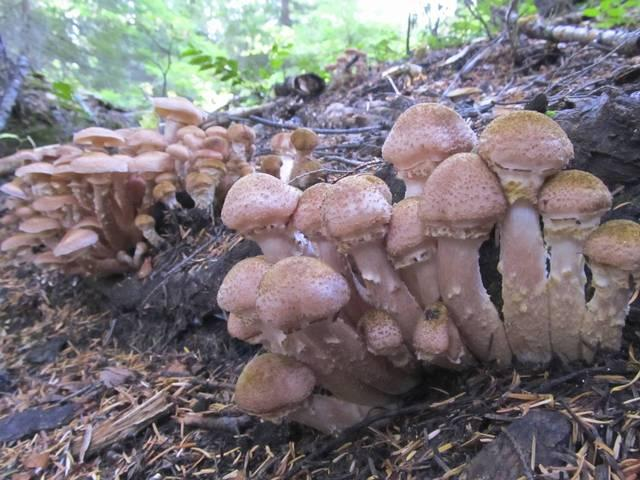Edible Mushroom: (215, 101, 639, 433), (12, 119, 214, 274)
